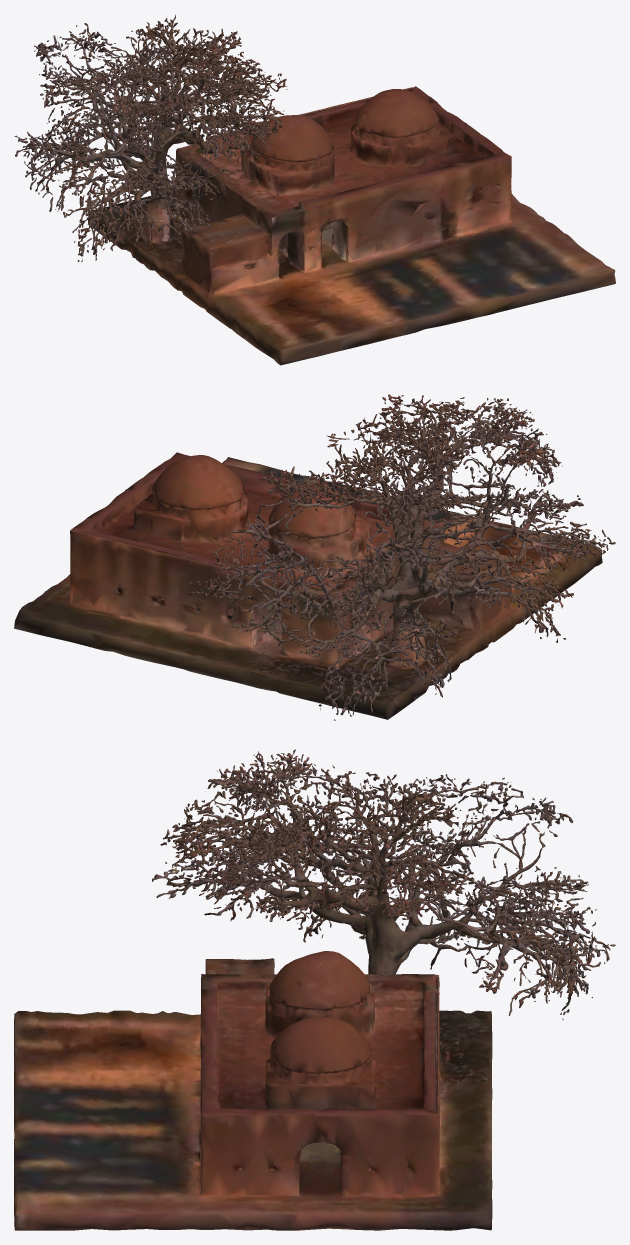
The model's file is Baradari of Rajmahal.glb.
3 renders of one model, top to bottom at view 1: azimuth 30°, elevation 25°; view 2: azimuth 150°, elevation 25°; view 3: azimuth 270°, elevation 25°, orthographic. The views are drawn at different scales.
Size of the model in its own units: 1.9 by 0.8616 by 1.81.
Materials: 1 (1 with a texture image).
